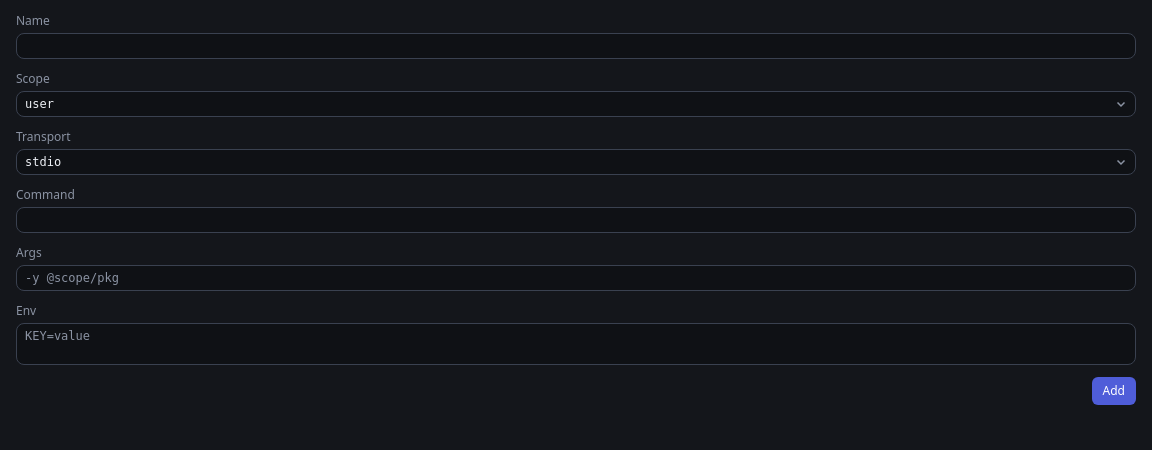
Test: McpServerForm › surfaces the CLI error from a failed submit
Type "pw" into the field labelled "Name" at (576, 46), box [16,33,1136,59]
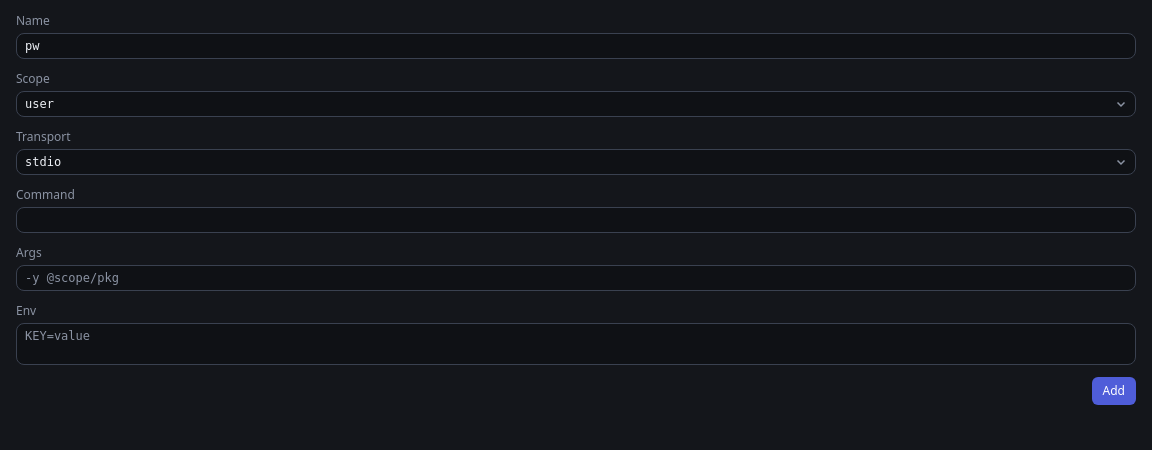
Type "npx" into the field labelled "Command" at (576, 220), box [16,207,1136,233]
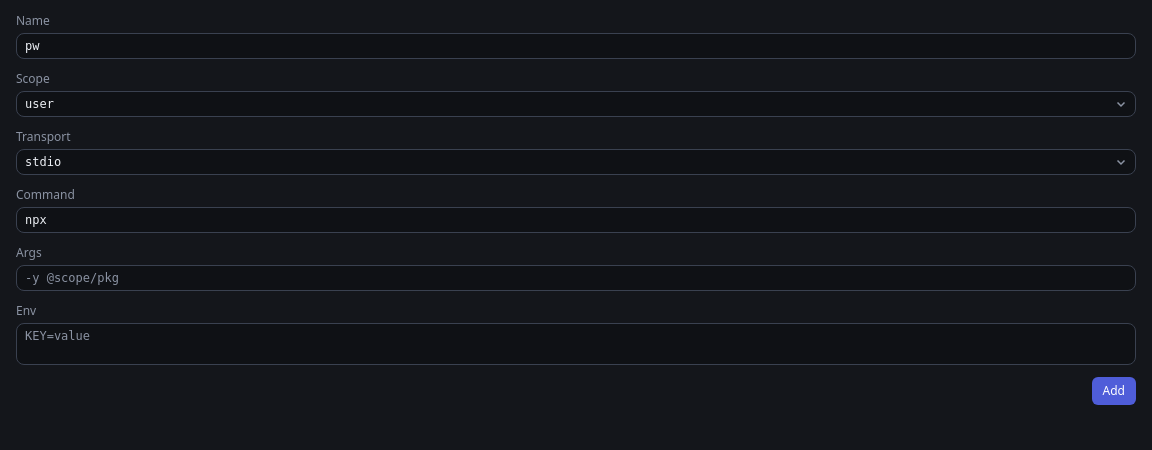
Click the button "Add" at (1114, 391), box [1092,377,1136,405]
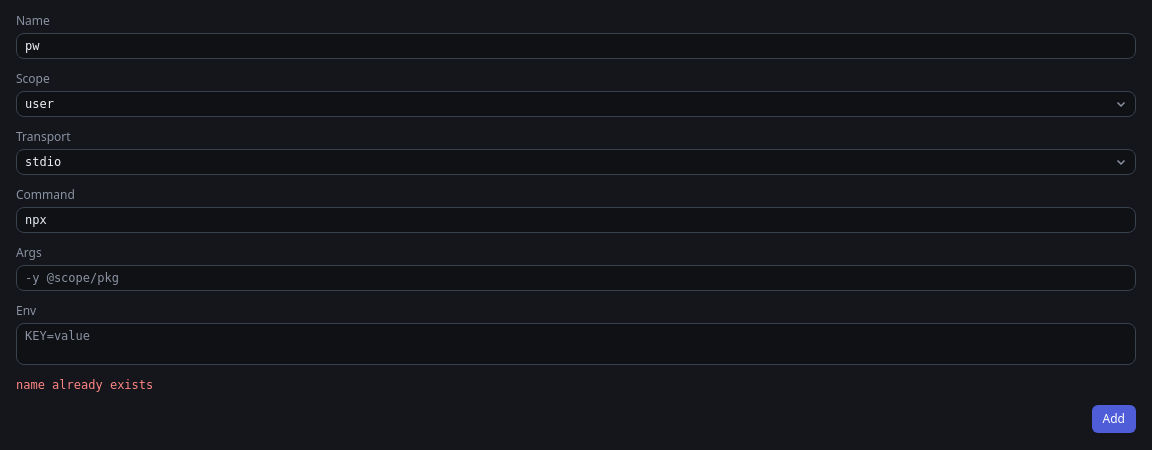
Check: the message reads "name already exists", box [16,378,153,392]
